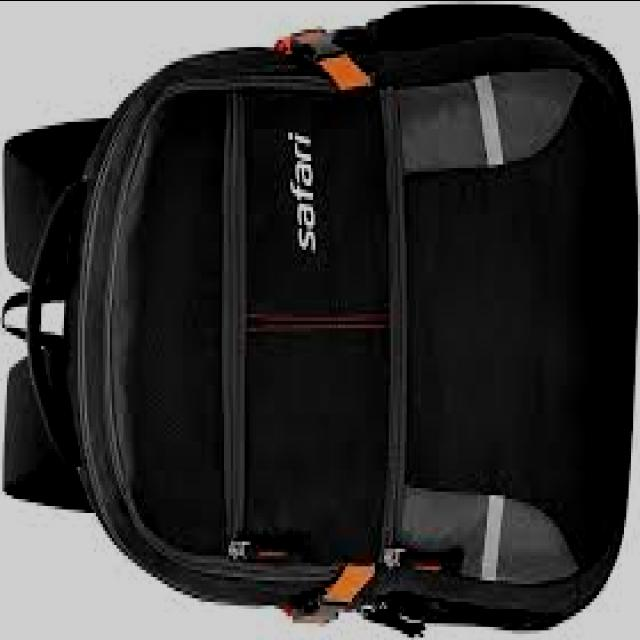backpack: (1, 5, 636, 640)
